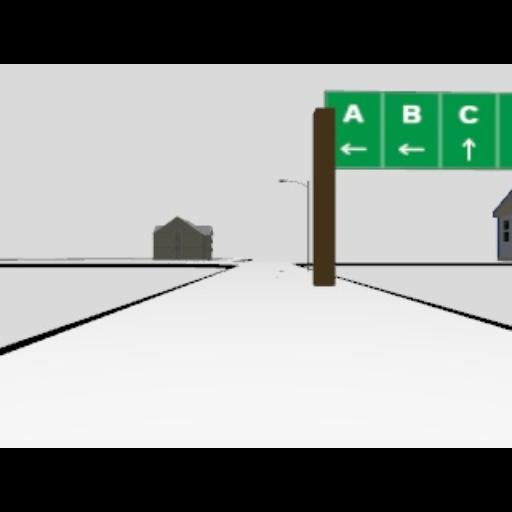A: (341, 101, 363, 123)
B: (402, 104, 420, 124)
C: (458, 104, 478, 124)
Left: (338, 142, 368, 156), (396, 142, 426, 156)
Straight: (461, 138, 475, 160)
